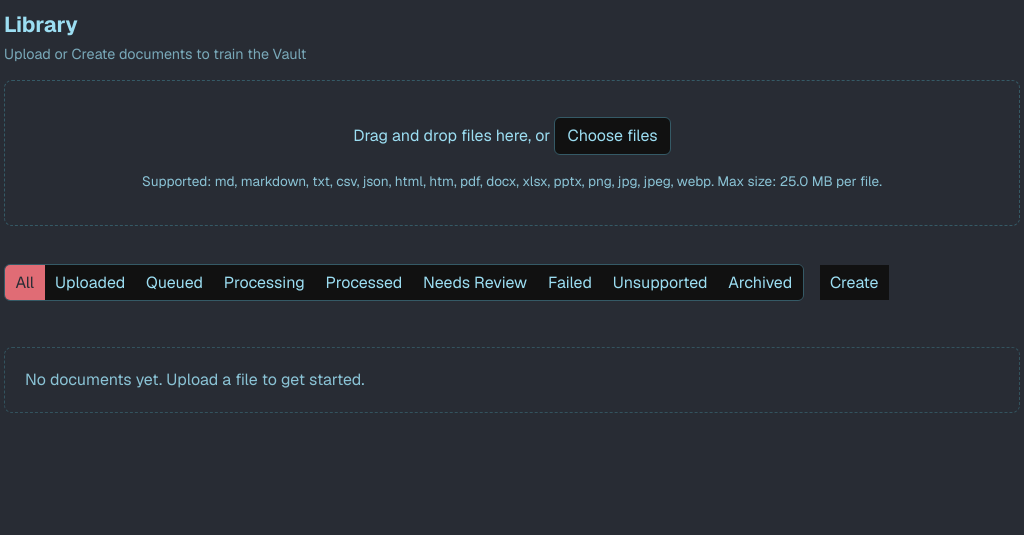
Test: Library auth and Create view › Create is detached and switches view mode
This screenshot has width=1024, height=535.
Click the tab "Create": (854, 283) [820, 265, 889, 300]
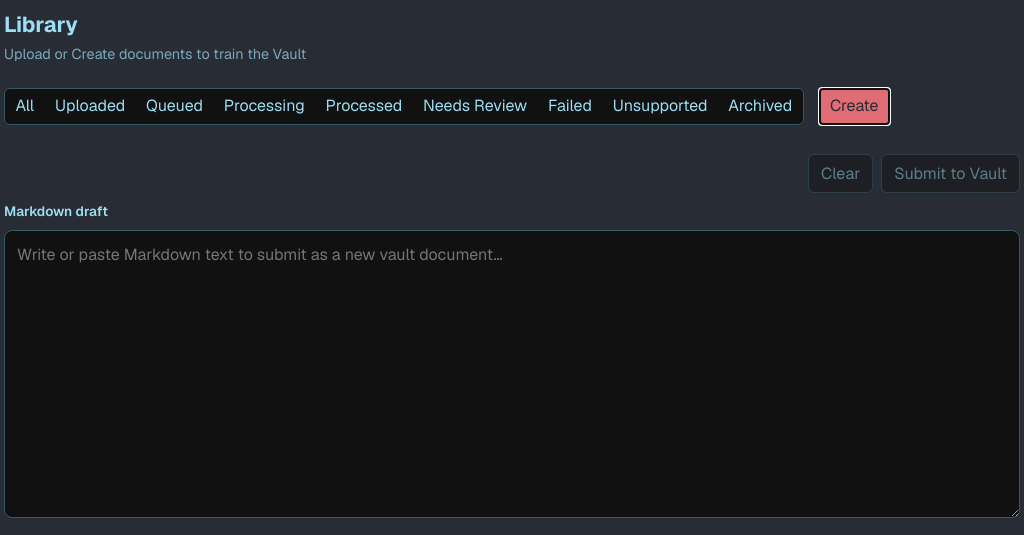
expect the text box labelled "Markdown draft" is shown: met, box [4, 230, 1020, 518]
expect the button "Choose files" is gone: met
Click the tab "Queued": (174, 106) [136, 89, 213, 124]
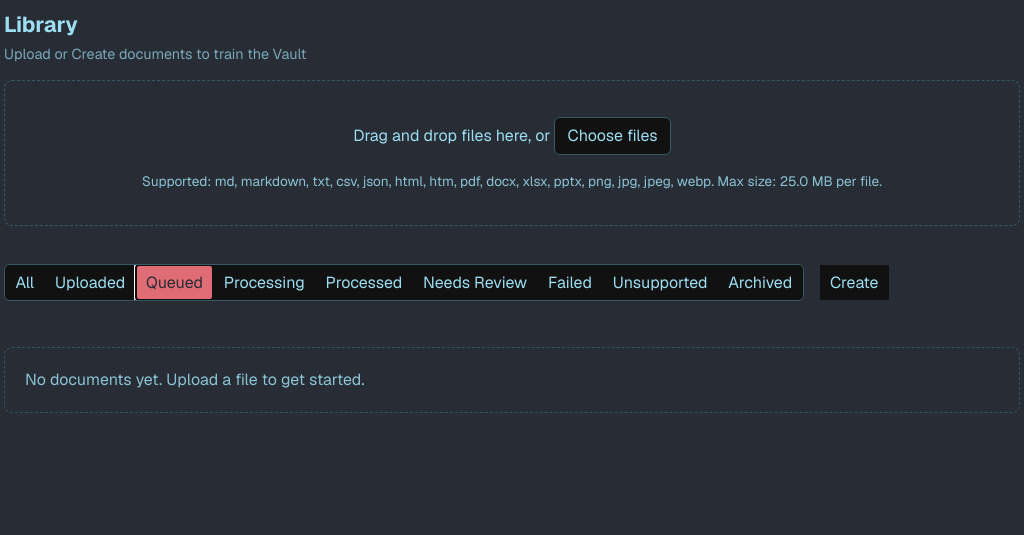
expect the button "Choose files" is shown: met, box [554, 117, 671, 155]
